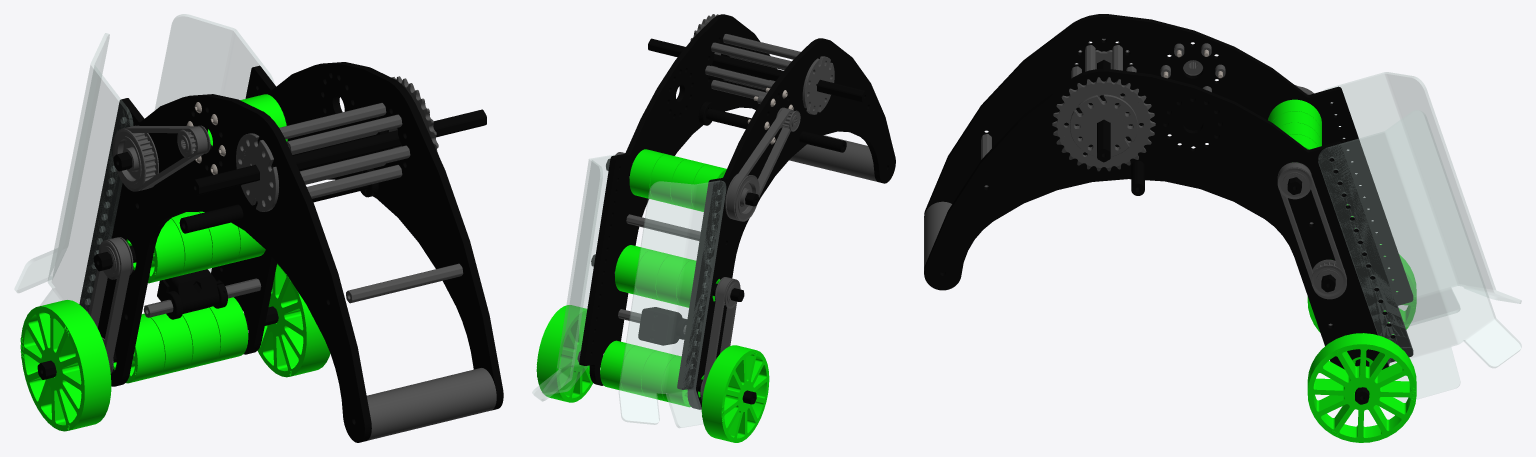
3 views of the same model, side by side, from view 1: azimuth 30°, elevation 25°; view 2: azimuth 150°, elevation 25°; view 3: azimuth 270°, elevation 25° (orthographic). The views are drawn at different scales.
Parts seen in each view (by area): view 1: WCP-CC2025-05-001_321, WCP-CC2025-05-001_399, 4.000in x 1.000in Straight Flex Wheel (0.500in Hex) Overmold (×2), 2.000in x 1.000in Straight Flex Wheel (0.500in Hex) Overmold (×9), WCP-CC2025-05-002_322, MirrorWCP-CC2025-05-002_400, WCP-CC2025-05-006_435, WCP-CC2025-05-004_325, WCP-1123 Rev1_Default<As Machined>_398, WCP-CC2025-05-WCP-0617_458, WCP-0565 Rev1_392, WCP-0313 Rev1_332 (+12 smaller); view 2: WCP-CC2025-05-002_322, WCP-CC2025-05-001_321, WCP-CC2025-05-001_399, 2.000in x 1.000in Straight Flex Wheel (0.500in Hex) Overmold (×12), 4.000in x 1.000in Straight Flex Wheel (0.500in Hex) Overmold (×2), MirrorWCP-CC2025-05-002_400, WCP-CC2025-05-006_435, WCP-CC2025-05-004_325, WCP-CC2025-05-WCP-0618_459, WCP-CC2025-05-WCP-0617_458, WCP-1123 Rev1_Default<As Machined>_398, WCP-1699 Rev1_409 (+7 smaller); view 3: WCP-CC2025-05-001_399, MirrorWCP-CC2025-05-002_400, WCP-CC2025-05-001_321, WCP-CC2025-05-002_322, 4.000in x 1.000in Straight Flex Wheel (0.500in Hex) Overmold (×2), WCP-0982 Rev2_414, WCP-1123 Rev1_Default<As Machined>_397, WCP-CC2025-05-WCP-0617_460, 2.000in x 1.000in Straight Flex Wheel (0.500in Hex) Overmold (×2), WCP-CC2025-05-006_435, WCP-0563 Rev1_394, WCP-0563 Rev1_393 (+1 smaller).
Part boxes in pixels (bbox=[...]): WCP-CC2025-05-001_321: bbox=[79, 94, 371, 442]; WCP-CC2025-05-001_399: bbox=[211, 62, 503, 410]; 4.000in x 1.000in Straight Flex Wheel (0.500in Hex) Overmold (×2): bbox=[20, 263, 330, 431]; 2.000in x 1.000in Straight Flex Wheel (0.500in Hex) Overmold (×9): bbox=[113, 94, 287, 383]; WCP-CC2025-05-002_322: bbox=[14, 33, 133, 312]; MirrorWCP-CC2025-05-002_400: bbox=[155, 14, 274, 272]; WCP-CC2025-05-006_435: bbox=[366, 368, 496, 440]; WCP-CC2025-05-004_325: bbox=[191, 109, 486, 195]; WCP-1123 Rev1_Default<As Machined>_398: bbox=[236, 133, 278, 211]; WCP-CC2025-05-WCP-0617_458: bbox=[88, 237, 131, 371]; WCP-0565 Rev1_392: bbox=[112, 125, 158, 191]; WCP-0313 Rev1_332: bbox=[346, 263, 463, 303]; WCP-CC2025-05-002_322: bbox=[619, 180, 725, 427]; WCP-CC2025-05-001_321: bbox=[677, 38, 895, 409]; WCP-CC2025-05-001_399: bbox=[579, 14, 777, 385]; 2.000in x 1.000in Straight Flex Wheel (0.500in Hex) Overmold (×12): bbox=[600, 149, 726, 407]; 4.000in x 1.000in Straight Flex Wheel (0.500in Hex) Overmold (×2): bbox=[536, 305, 769, 442]; MirrorWCP-CC2025-05-002_400: bbox=[532, 155, 615, 401]; WCP-CC2025-05-006_435: bbox=[789, 135, 877, 181]; WCP-CC2025-05-004_325: bbox=[648, 38, 867, 102]; WCP-CC2025-05-WCP-0618_459: bbox=[726, 108, 794, 220]; WCP-CC2025-05-WCP-0617_458: bbox=[701, 277, 736, 401]; WCP-1123 Rev1_Default<As Machined>_398: bbox=[802, 56, 834, 114]; WCP-1699 Rev1_409: bbox=[638, 307, 677, 345]; WCP-CC2025-05-001_399: bbox=[924, 68, 1413, 369]; MirrorWCP-CC2025-05-002_400: bbox=[1318, 110, 1521, 402]; WCP-CC2025-05-001_321: bbox=[924, 14, 1413, 305]; WCP-CC2025-05-002_322: bbox=[1323, 72, 1521, 326]; 4.000in x 1.000in Straight Flex Wheel (0.500in Hex) Overmold (×2): bbox=[1307, 244, 1416, 442]; WCP-0982 Rev2_414: bbox=[1052, 77, 1155, 171]; WCP-1123 Rev1_Default<As Machined>_397: bbox=[1070, 94, 1137, 156]; WCP-CC2025-05-WCP-0617_460: bbox=[1277, 163, 1346, 299]; 2.000in x 1.000in Straight Flex Wheel (0.500in Hex) Overmold (×2): bbox=[1268, 99, 1321, 143]; WCP-CC2025-05-006_435: bbox=[924, 201, 951, 270]; WCP-0563 Rev1_394: bbox=[1311, 259, 1345, 296]; WCP-0563 Rev1_393: bbox=[1277, 162, 1311, 199].
Size of the model in its own units: 0.2651 by 0.3581 by 0.5565.
